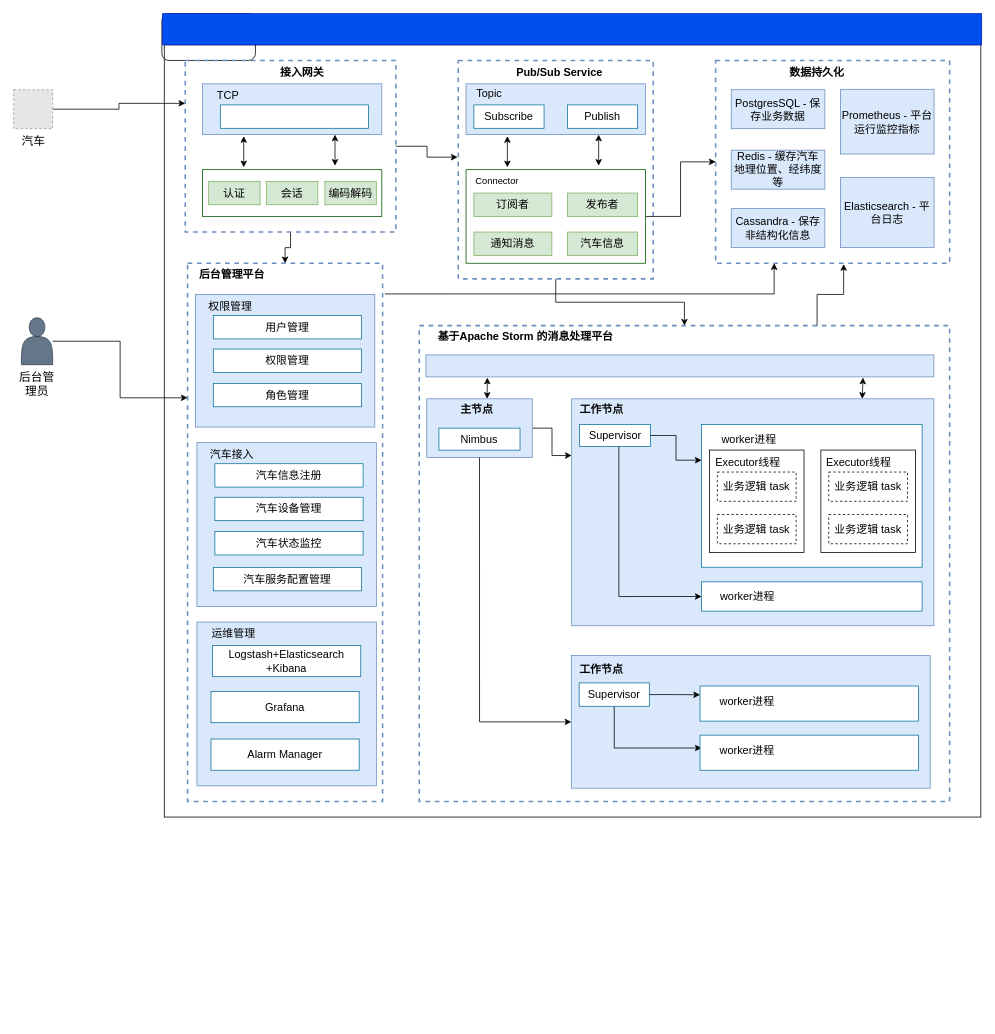
Some shapes in this 995 by 1034 pixel diagram are drawn without their labels. Grey dashed boxes stand in for pictures. The box of each missing label's shape, as (x1, y1, x2, y2) in pixels:
Iot服务平台: (162, 13, 982, 45)
MQTT: (220, 104, 369, 128)
ZooKeeper集群: (425, 354, 934, 377)
